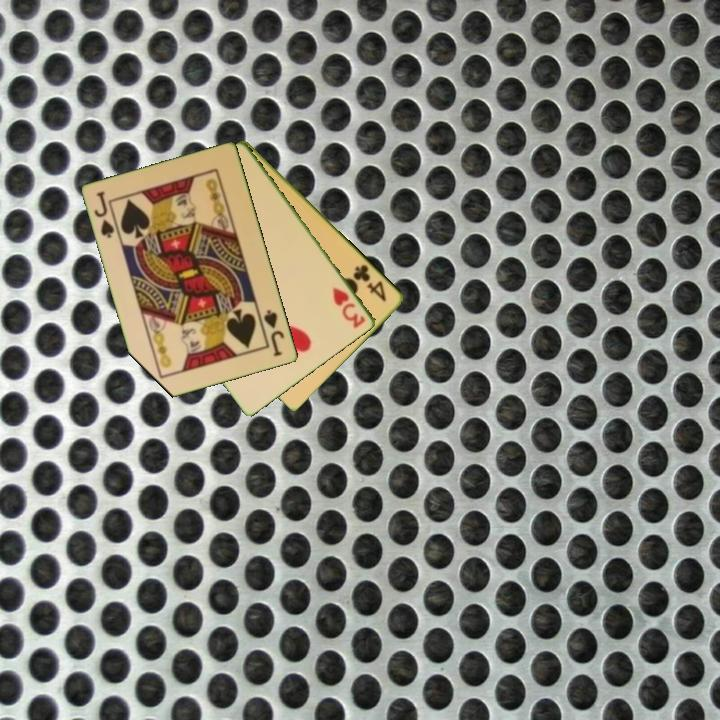3h: (329, 284, 369, 331)
4c: (350, 261, 390, 304)
Js: (91, 188, 122, 241), (261, 306, 287, 360)
